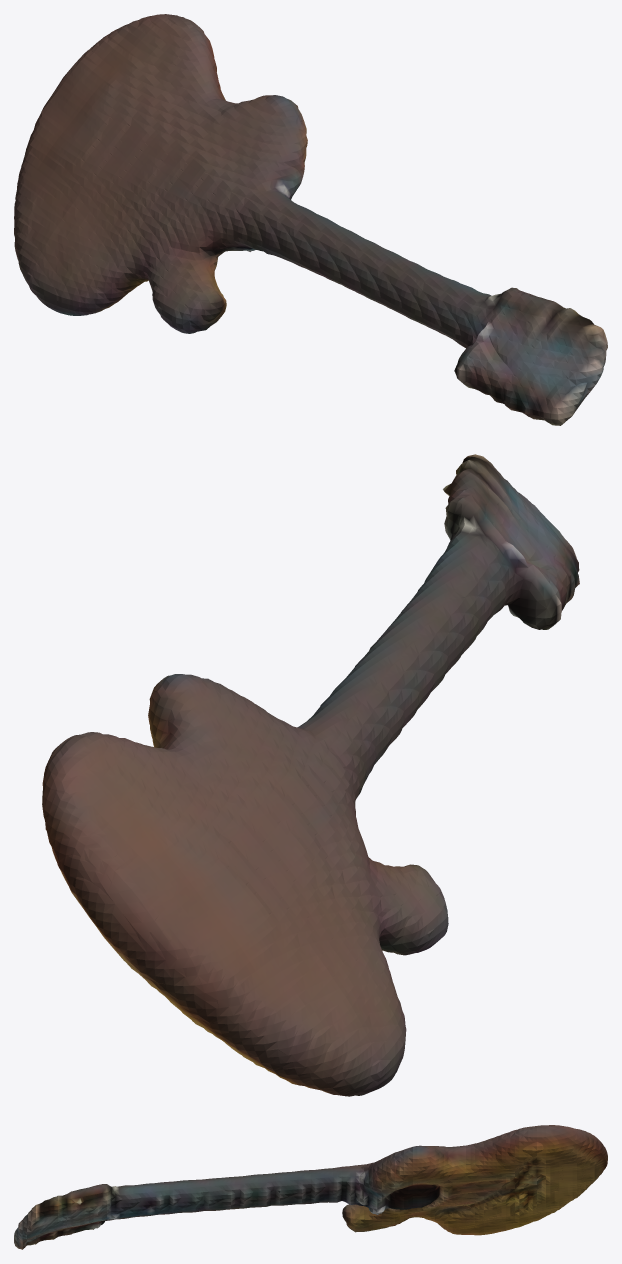
The picture shows the model from 3 angles, top to bottom: view 1: azimuth 30°, elevation 25°; view 2: azimuth 150°, elevation 25°; view 3: azimuth 270°, elevation 25°; orthographic projection. The views are drawn at different scales.
Bounding box in the file's own units: 0.3434 × 0.2792 × 0.9139.
